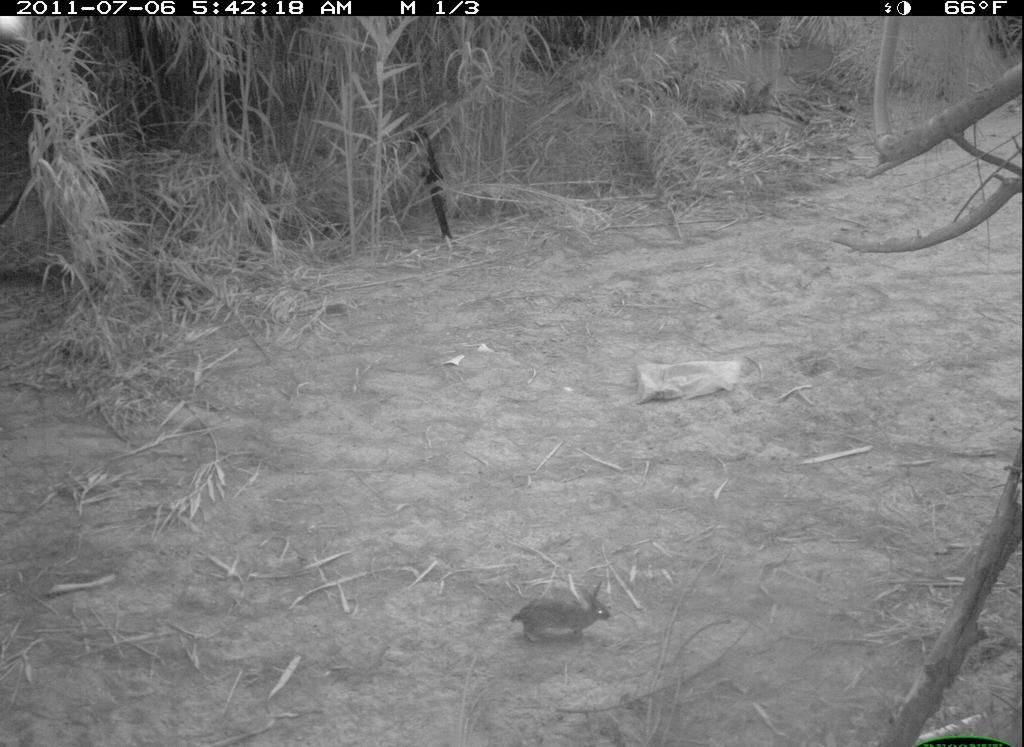rabbit: (511, 575, 635, 653)
